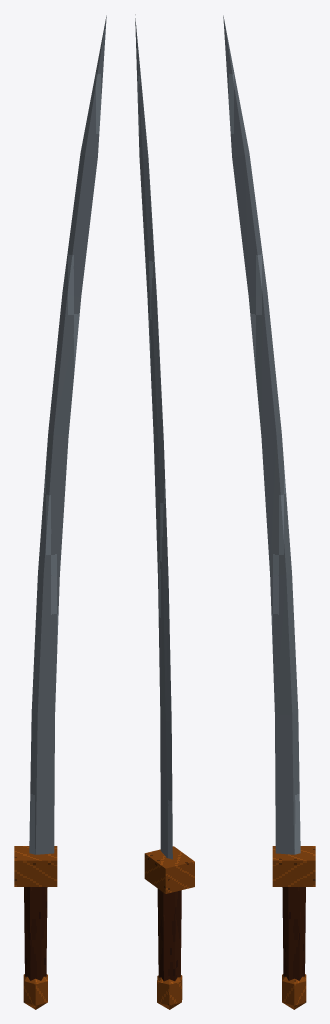
The model's file is sable_acero.glb.
3 views of the same model, side by side, from view 1: azimuth 90°, elevation 25°; view 2: azimuth 210°, elevation 25°; view 3: azimuth 270°, elevation 25° (orthographic). The views are drawn at different scales.
Parts seen in each view (by area): view 1: hoja, empunadura, guarda, pomo; view 2: hoja, empunadura, guarda, pomo; view 3: hoja, empunadura, guarda, pomo.
Boxes of the visible parts, x1=… form: hoja: x1=29, y1=15, x2=106, y2=854; empunadura: x1=24, y1=887, x2=47, y2=980; guarda: x1=14, y1=846, x2=57, y2=886; pomo: x1=23, y1=974, x2=47, y2=1009; hoja: x1=135, y1=14, x2=172, y2=859; empunadura: x1=157, y1=889, x2=181, y2=981; guarda: x1=144, y1=846, x2=194, y2=893; pomo: x1=157, y1=975, x2=182, y2=1009; hoja: x1=223, y1=15, x2=300, y2=854; empunadura: x1=282, y1=887, x2=305, y2=980; guarda: x1=272, y1=846, x2=315, y2=886; pomo: x1=282, y1=974, x2=306, y2=1009.
Size of the model in its own units: 0.03 by 0.95 by 0.08.
1 material, 1 textured.
